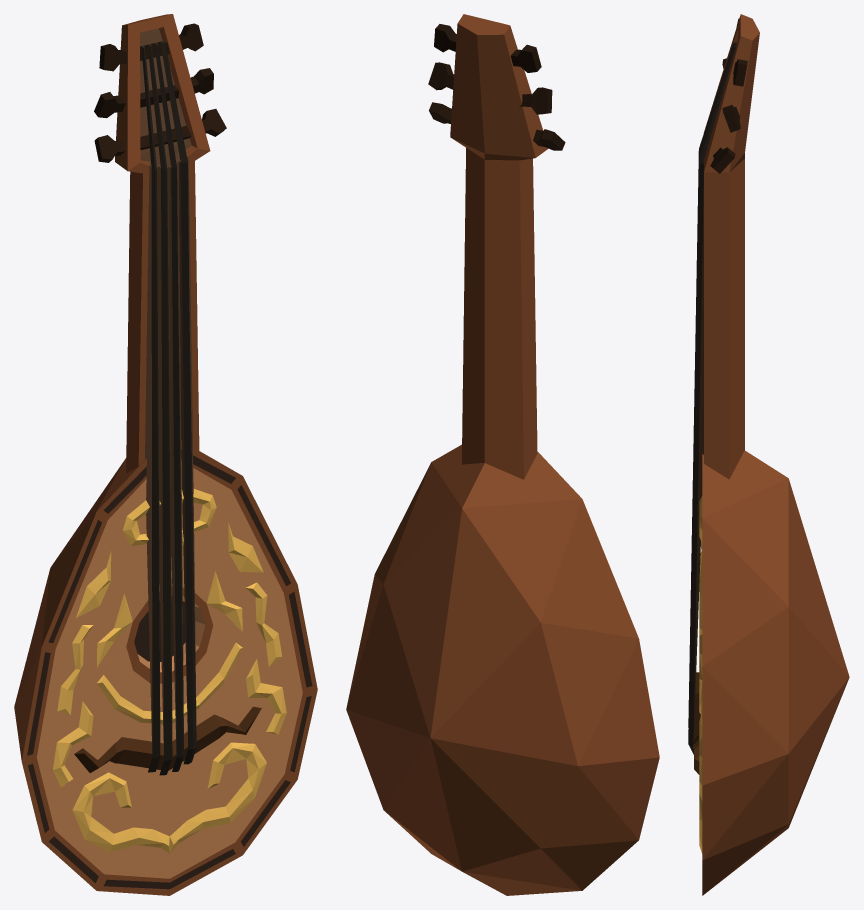
File: Lute_F_AD_006.fbx
3 renders of one model, left to right at view 1: azimuth 30°, elevation 25°; view 2: azimuth 150°, elevation 25°; view 3: azimuth 270°, elevation 25°, orthographic. The views are drawn at different scales.
Visible parts, largest first — view 1: Lute_F_AD_006; view 2: Lute_F_AD_006; view 3: Lute_F_AD_006.
Part boxes in pixels (x1=…): Lute_F_AD_006: x1=14, y1=14, x2=317, y2=895; Lute_F_AD_006: x1=346, y1=14, x2=659, y2=895; Lute_F_AD_006: x1=688, y1=14, x2=849, y2=895.
Size of the model in its own units: 0.4527 by 1.26 by 0.2147.
